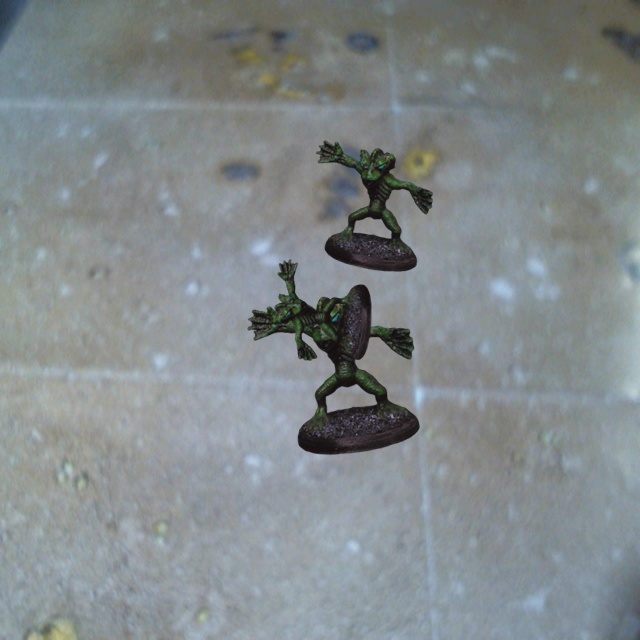pieza_juego: (247, 297, 419, 454), (316, 140, 432, 271), (274, 259, 371, 360)
